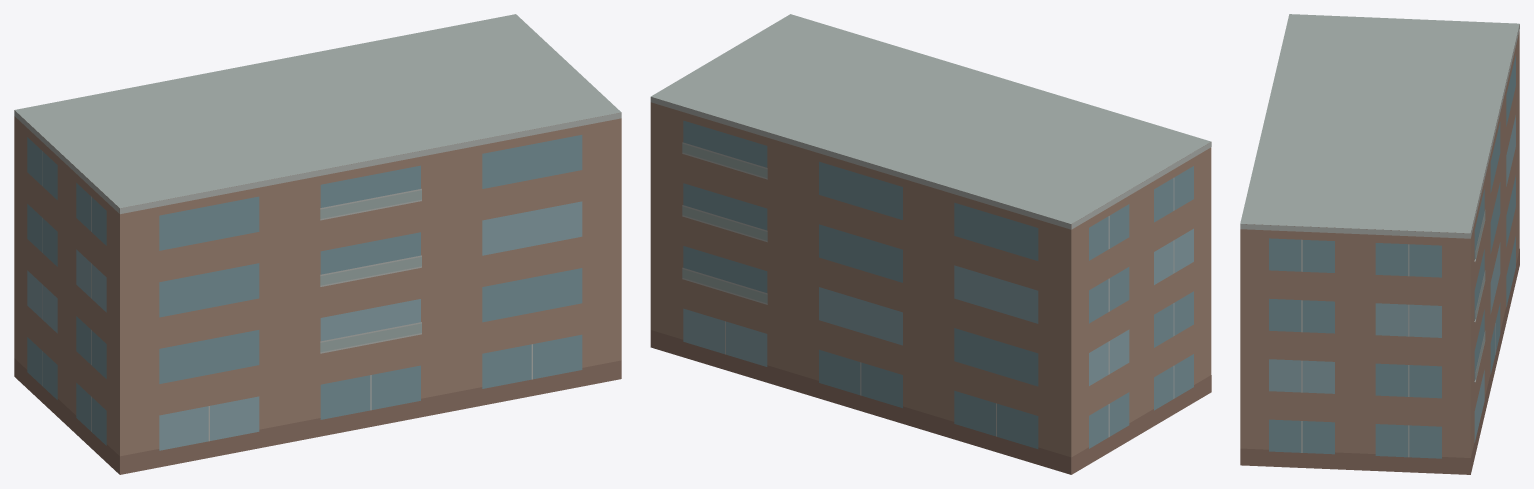
File: survey-upis-32672202.glb
3 views of the same model, side by side, from view 1: azimuth 30°, elevation 25°; view 2: azimuth 150°, elevation 25°; view 3: azimuth 270°, elevation 25° (orthographic). The views are drawn at different scales.
Parts seen in each view (by area): view 1: survey-upis-32672202.tmp; view 2: survey-upis-32672202.tmp; view 3: survey-upis-32672202.tmp.
Part boxes in pixels (x1,y1,x2,y2): survey-upis-32672202.tmp: (14,14,621,474); survey-upis-32672202.tmp: (650,14,1211,474); survey-upis-32672202.tmp: (1240,14,1519,474).
Size of the model in its own units: 21.44 by 11 by 11.55.
